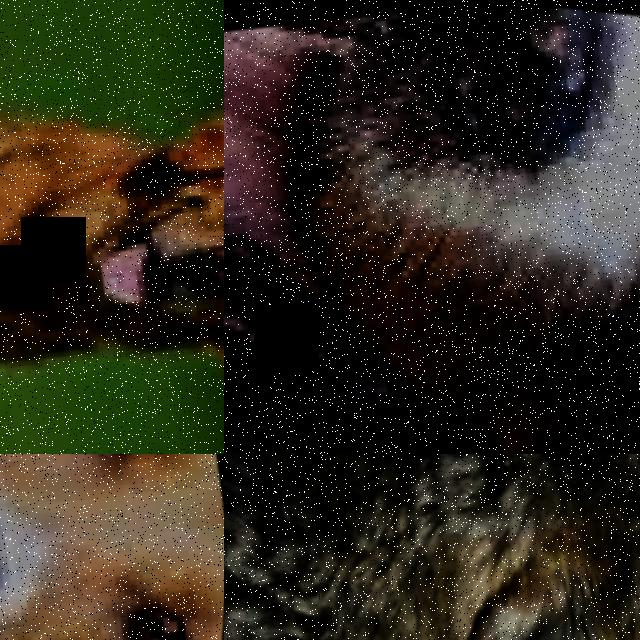dog: (224, 0, 640, 454), (0, 0, 224, 454), (0, 454, 224, 640)
wolf: (224, 454, 640, 640)
